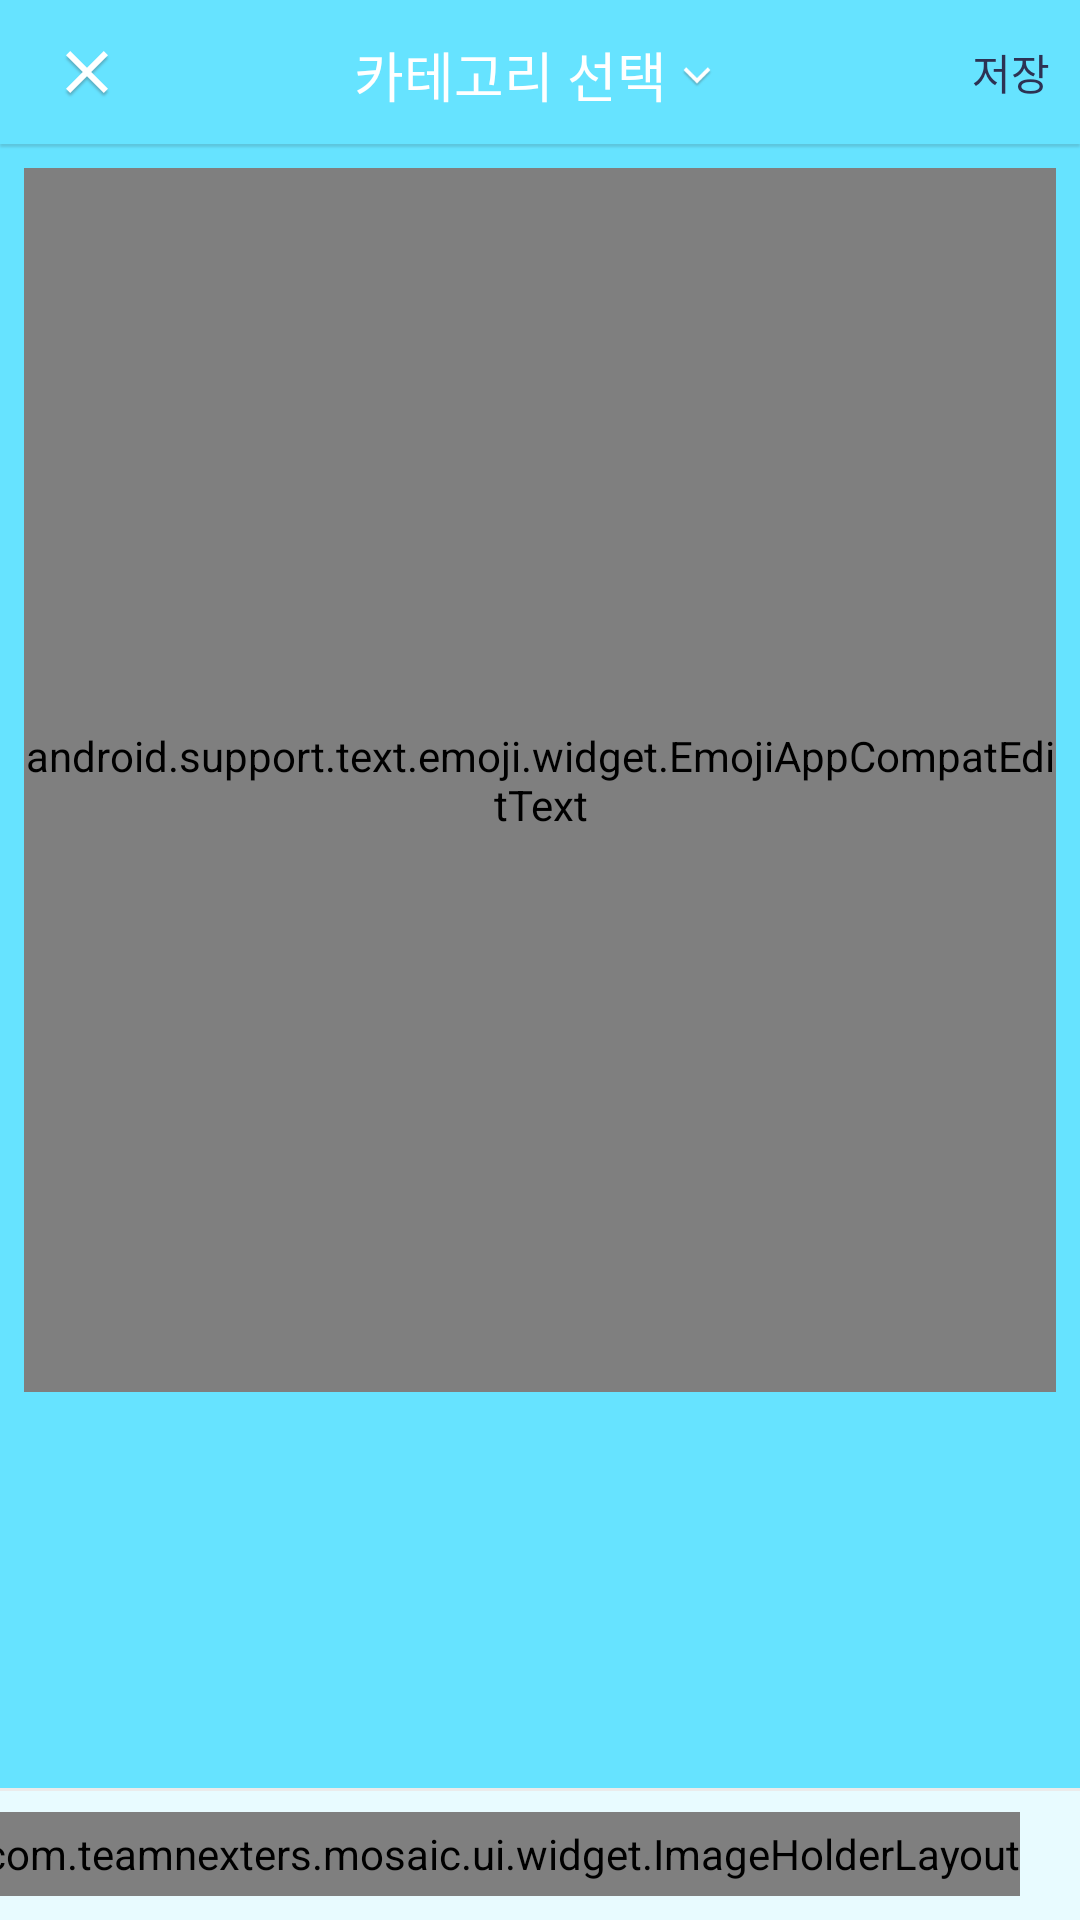

Locate icon controls on the screen. Image size 1080px×1920px, boxes as detection(x1, y1, x2, y2).
close: detection(66, 51, 108, 95)
writing filter down: detection(684, 67, 710, 85)
